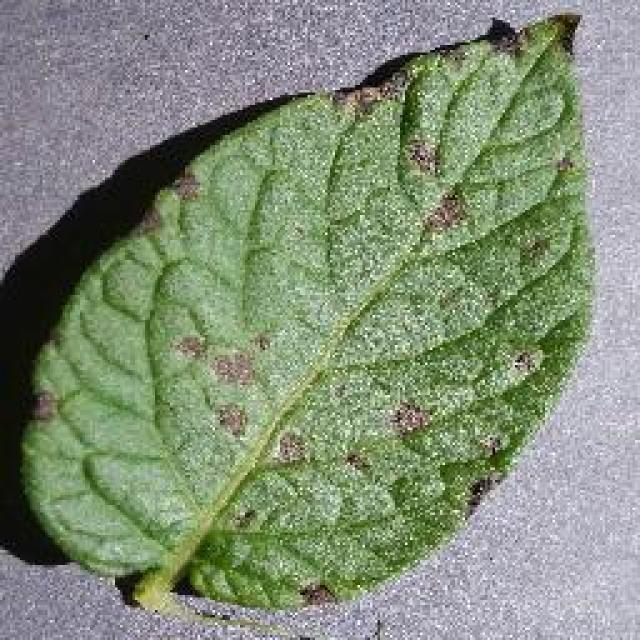Potato: (18, 8, 598, 628)
